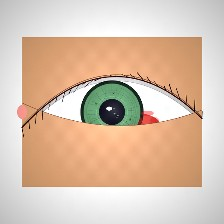hemorrhage_spot: (103, 100, 171, 154)
